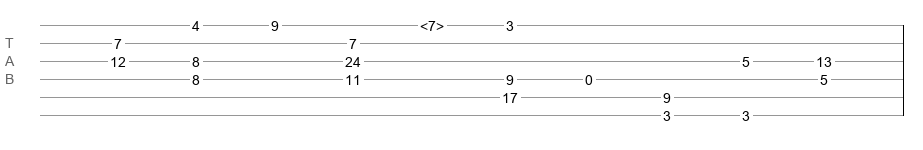0: (585, 72, 593, 82)
11: (345, 72, 361, 82)
12: (110, 54, 126, 64)
13: (816, 54, 832, 64)
17: (502, 90, 518, 100)
24: (345, 54, 361, 64)
3: (506, 18, 514, 28), (663, 108, 671, 118), (742, 108, 750, 118)
4: (192, 18, 200, 28)
5: (742, 54, 750, 64), (820, 72, 828, 82)
7: (114, 36, 122, 46), (349, 36, 357, 46)
8: (192, 72, 200, 82), (192, 54, 200, 64)
9: (271, 18, 279, 28), (506, 72, 514, 82), (663, 90, 671, 100)
harmonic: (420, 18, 444, 28)
